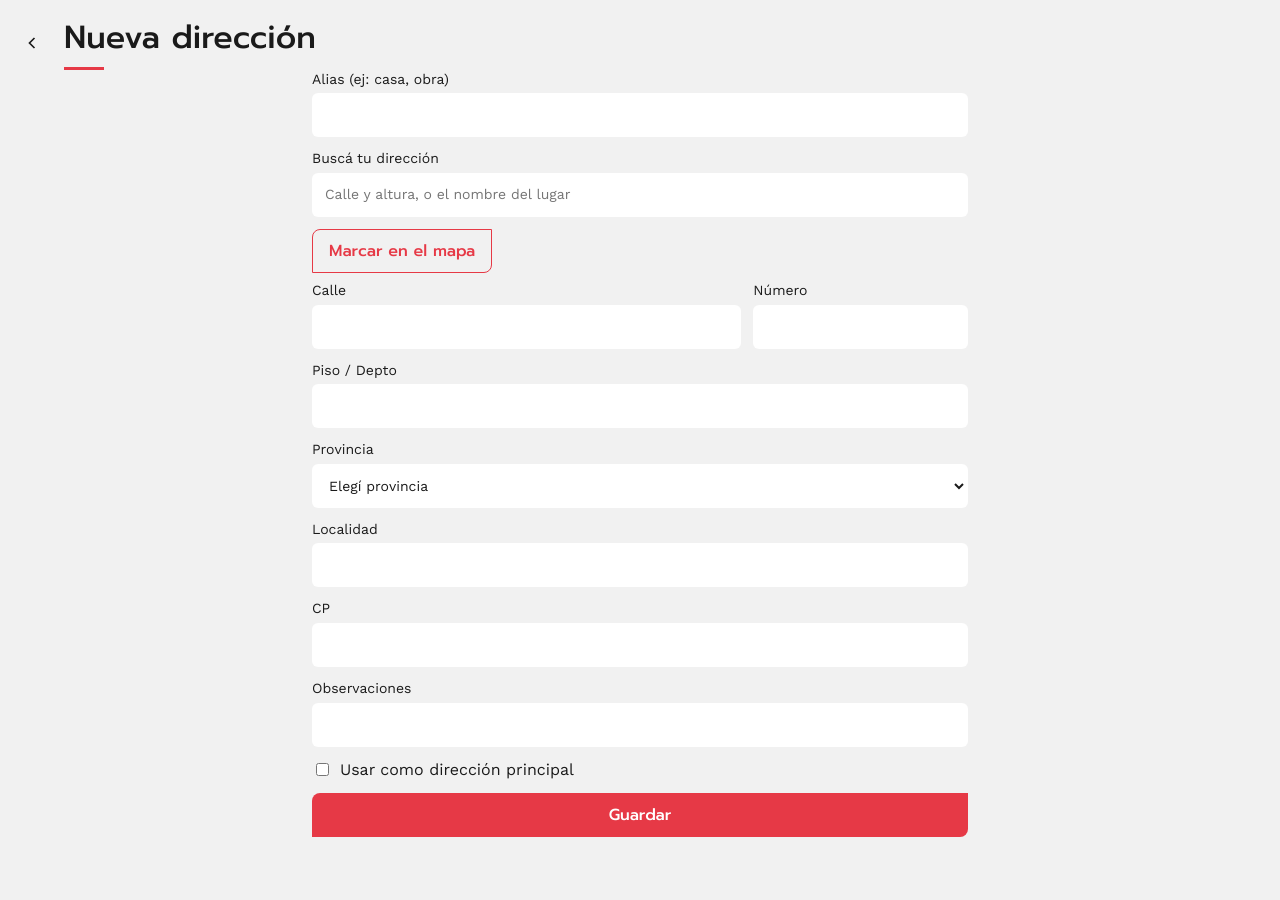
it: AgregarDireccion con el mapa › lo elegido del mapa llena los campos que viajan en el WhatsApp
Type "mitre 450" into the field labelled "Buscá tu dirección" at (640, 195), box x1=312 y1=173 x2=968 y2=217
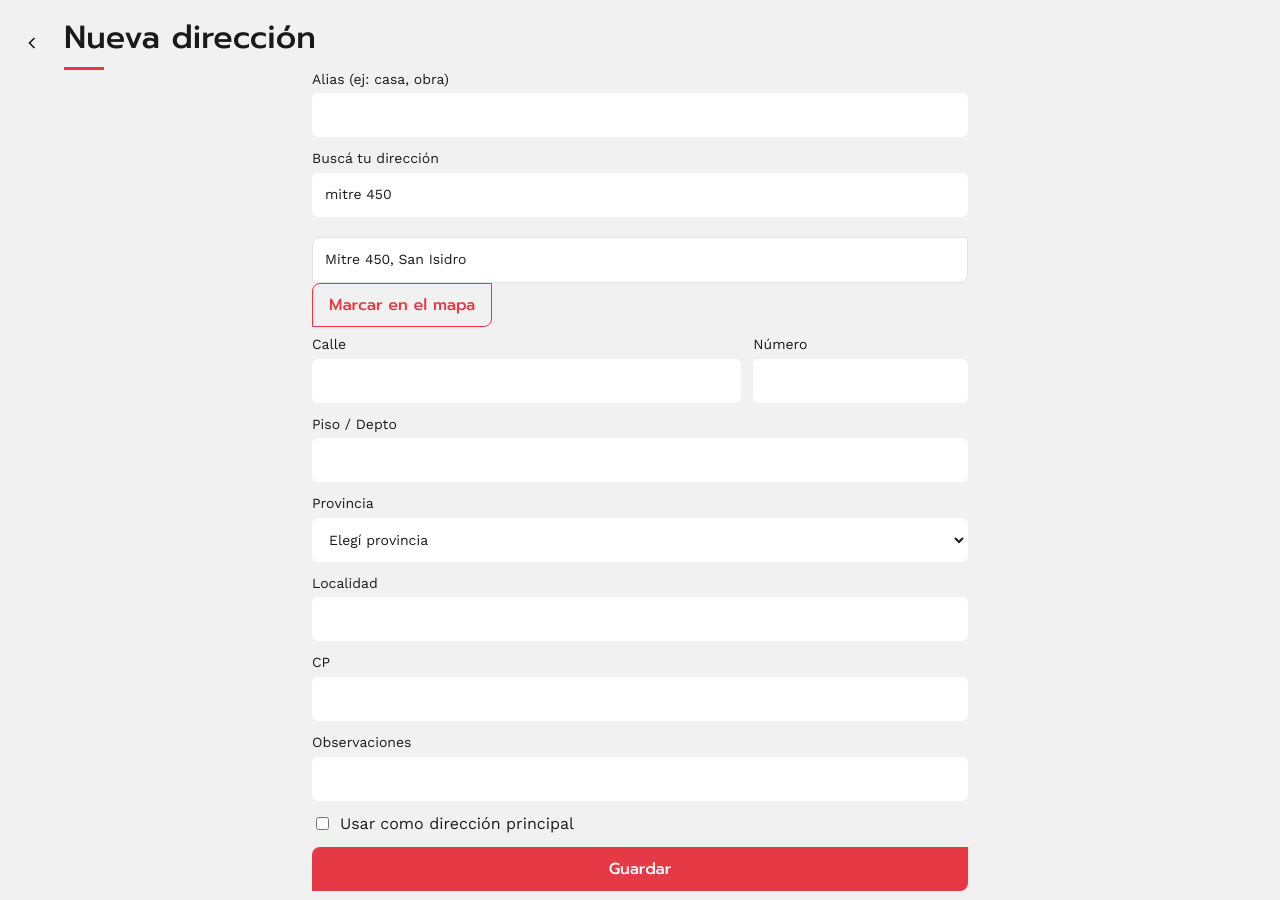
Click the option "Mitre 450, San Isidro" at (396, 259), box x1=313 y1=238 x2=967 y2=282
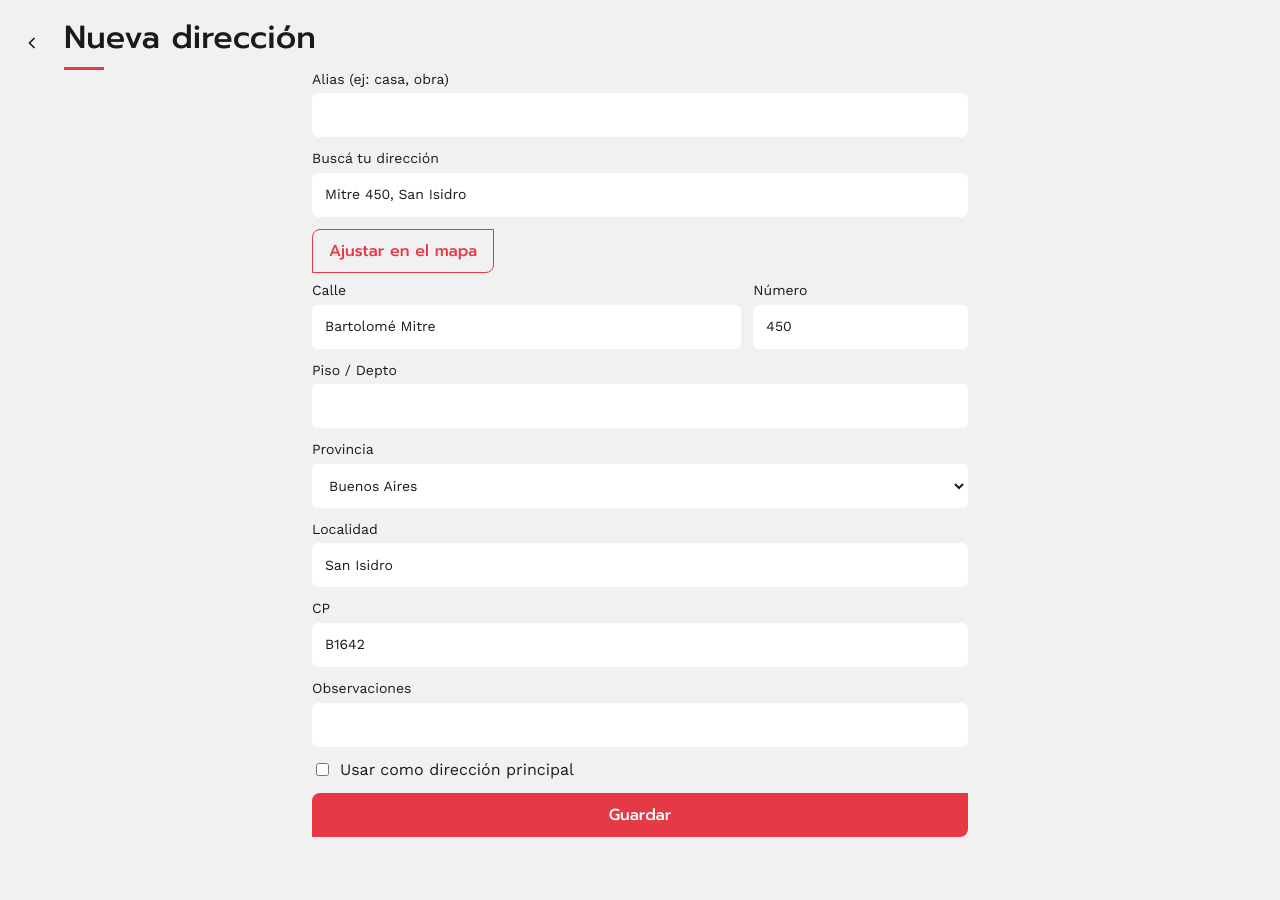
Now the field labelled "Calle" holds "Bartolomé Mitre", box x1=312 y1=305 x2=741 y2=349
Now the field labelled "Número" holds "450", box x1=753 y1=305 x2=968 y2=349
Now the field labelled "Localidad" holds "San Isidro", box x1=312 y1=543 x2=968 y2=587
